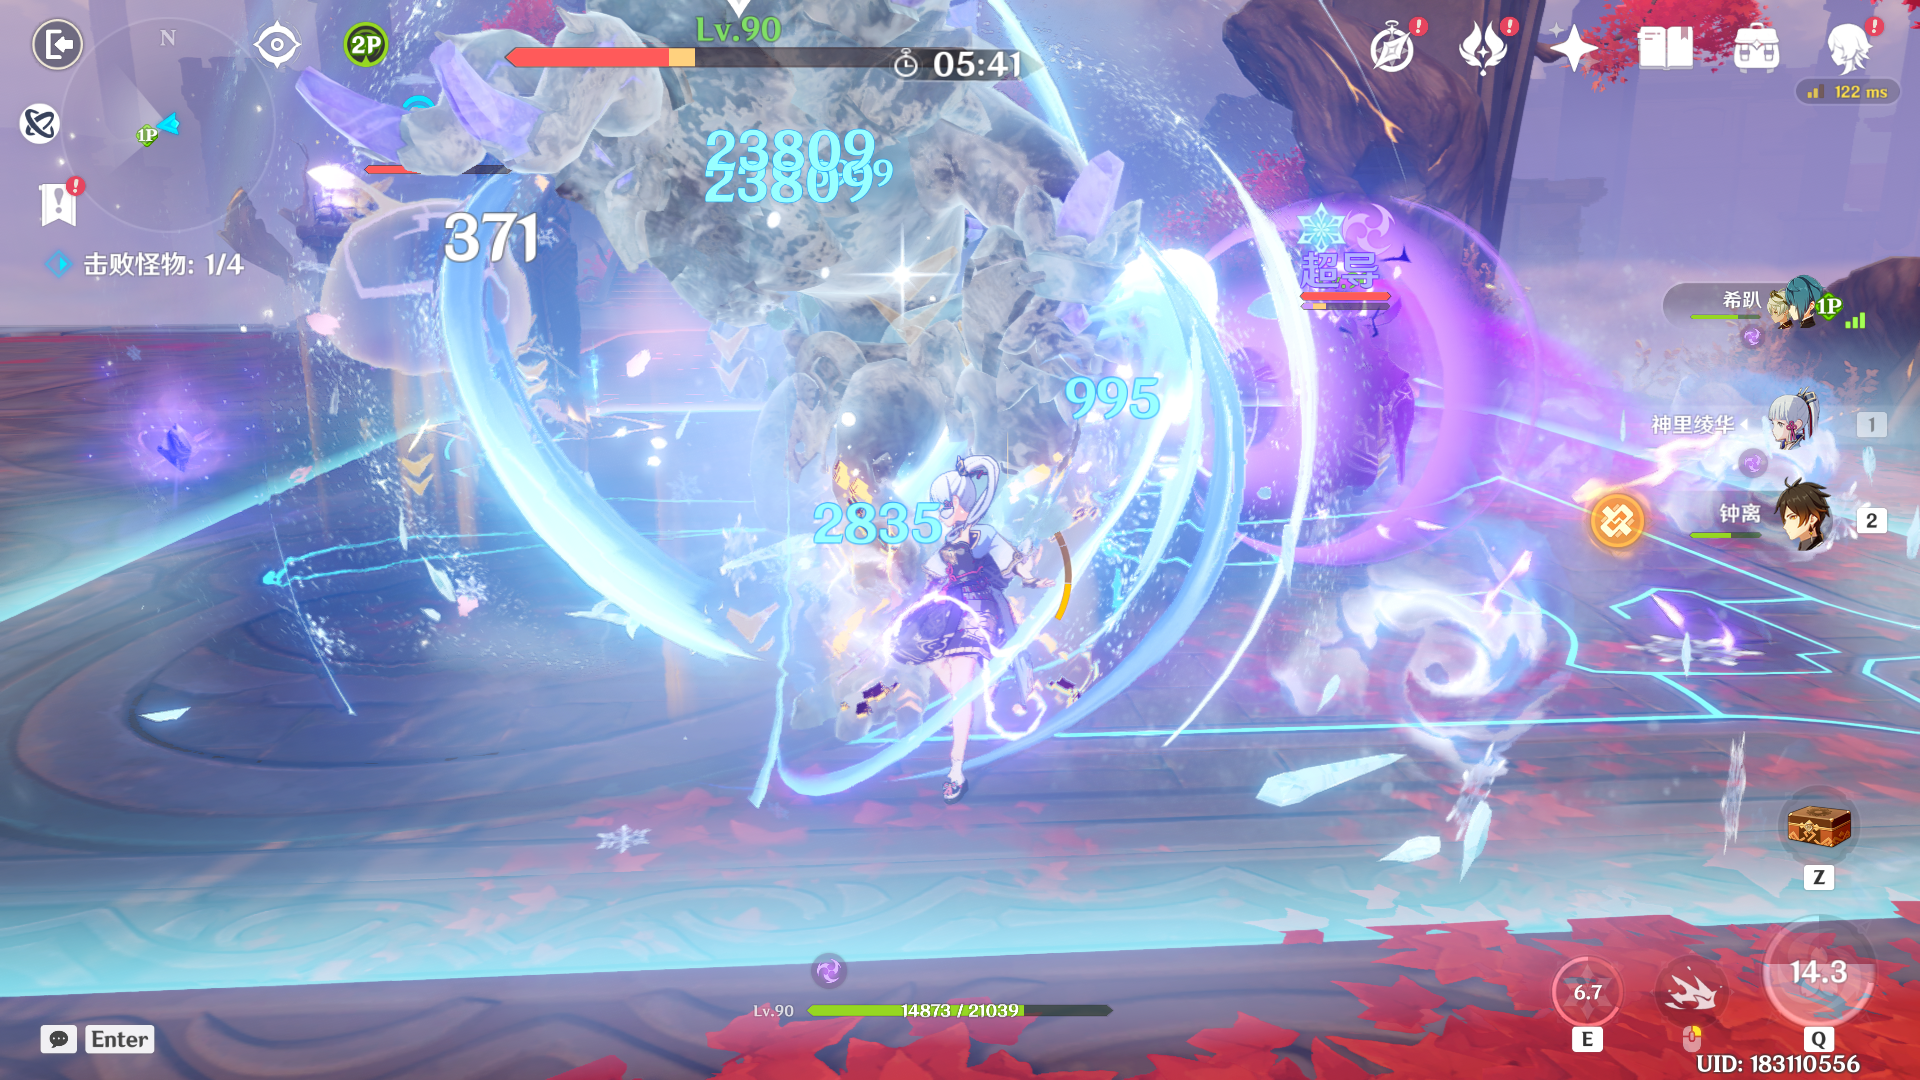character: (843, 442, 1101, 828)
